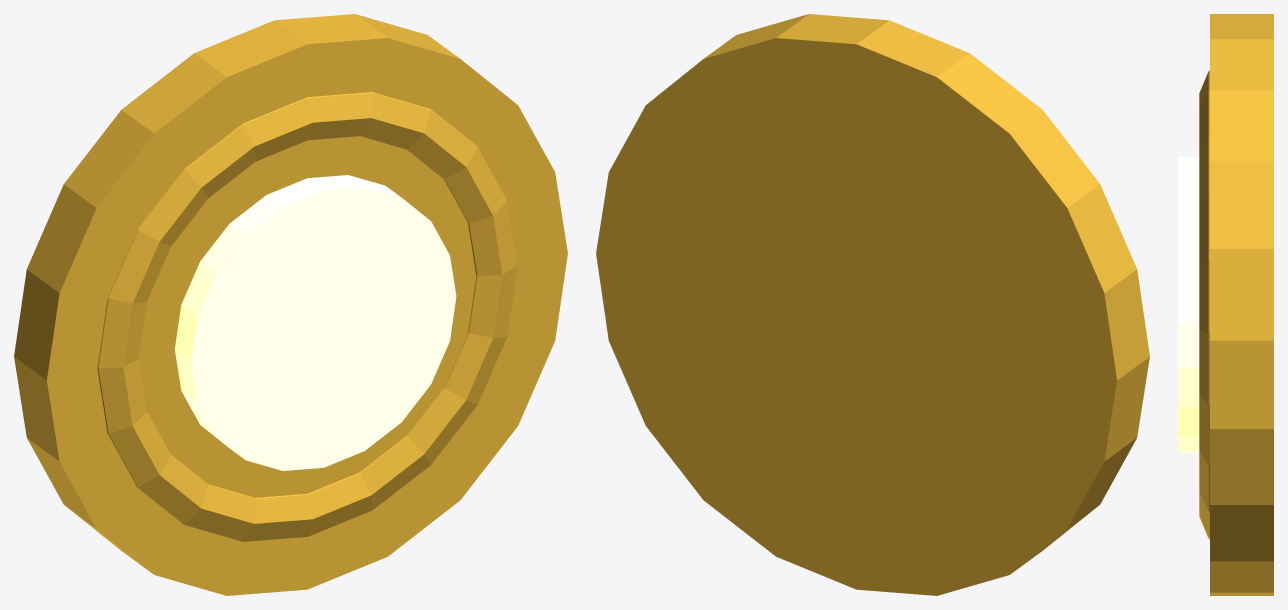
File: coin.glb
3 renders of one model, left to right at view 1: azimuth 30°, elevation 25°; view 2: azimuth 150°, elevation 25°; view 3: azimuth 270°, elevation 25°, orthographic. The views are drawn at different scales.
Visible parts, largest first — view 1: coin; view 2: coin; view 3: coin.
Part boxes in pixels (x1,y1,x2,y2): coin: [14, 14, 567, 595]; coin: [596, 14, 1149, 595]; coin: [1178, 14, 1273, 595].
Bounding box in the file's own units: 1.1 × 1.1 × 0.18.
